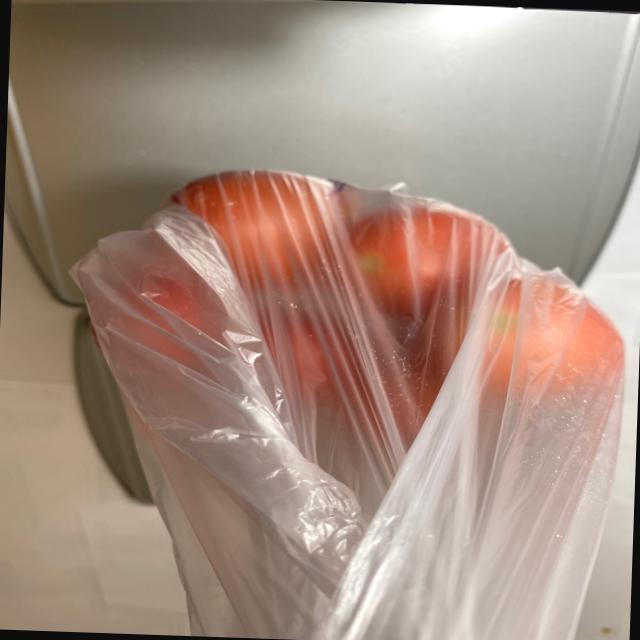tomato: (74, 162, 622, 452)
